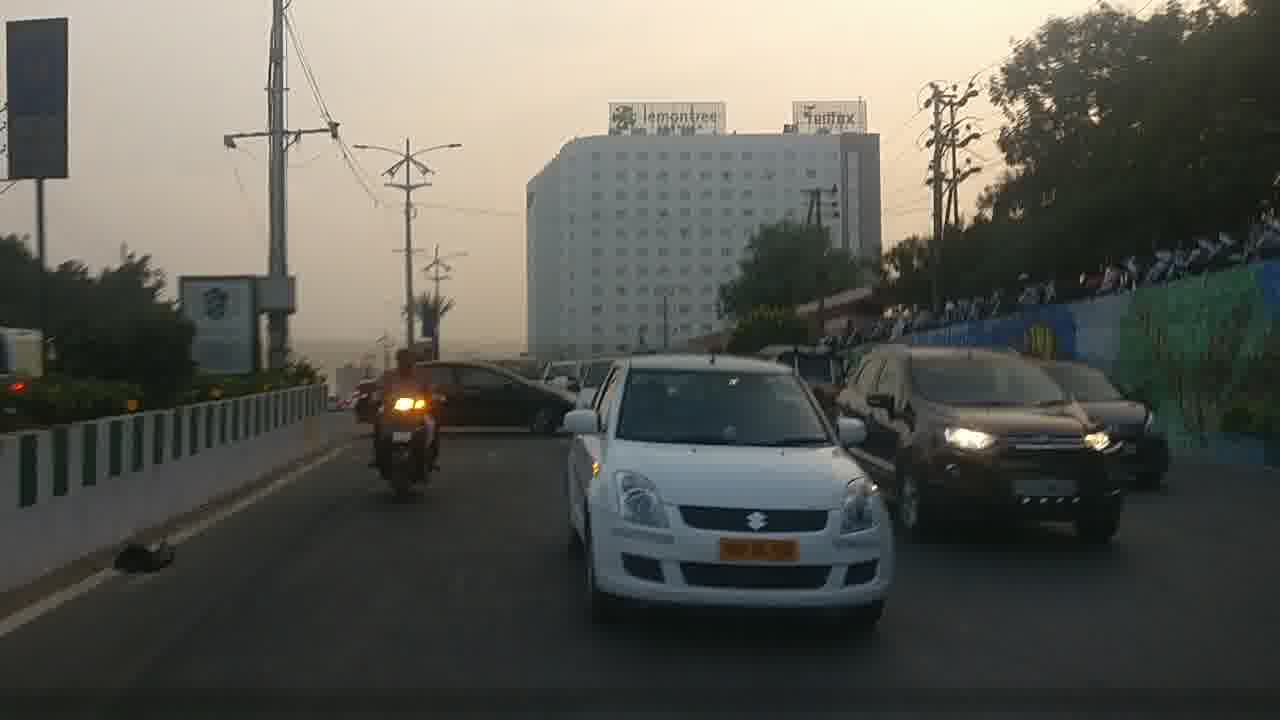swift desire: (562, 360, 888, 604)
